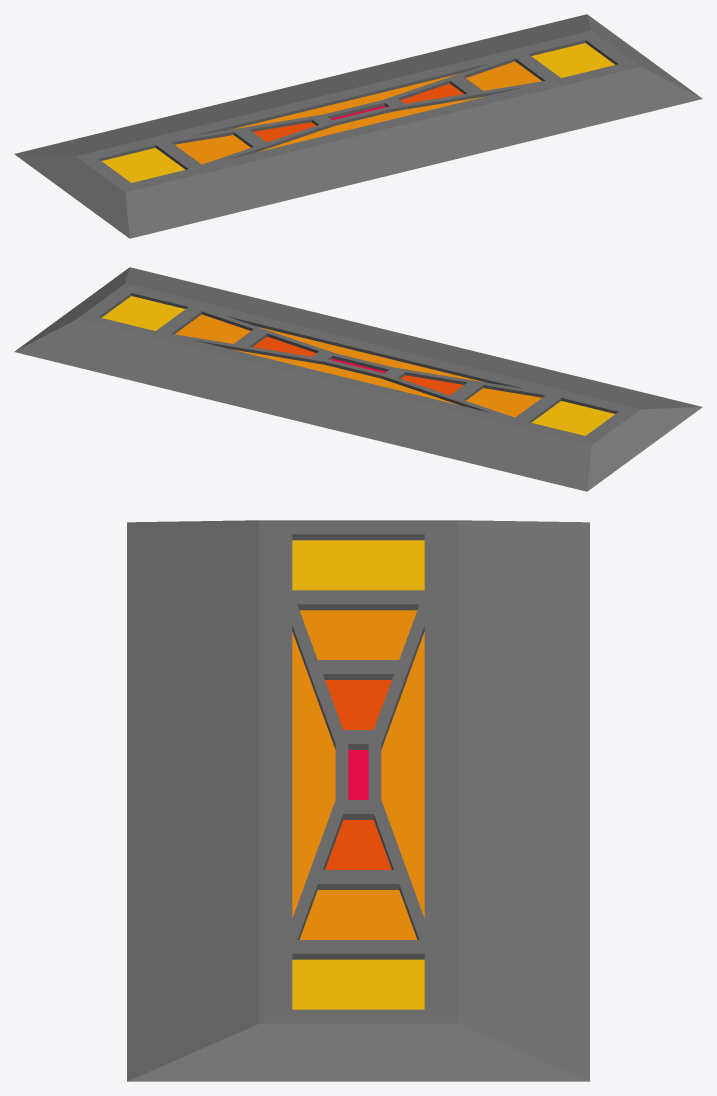
File: Rollover_2.fbx
3 views of the same model, one above another, from view 1: azimuth 30°, elevation 25°; view 2: azimuth 150°, elevation 25°; view 3: azimuth 270°, elevation 25° (orthographic). The views are drawn at different scales.
Parts seen in each view (by area): view 1: Rollover_2; view 2: Rollover_2; view 3: Rollover_2.
Boxes of the visible parts, x1,y1,x2,y2 form: Rollover_2: [14, 14, 702, 238]; Rollover_2: [14, 267, 702, 491]; Rollover_2: [127, 520, 589, 1081].
Size of the model in its own units: 40 by 1 by 14.
